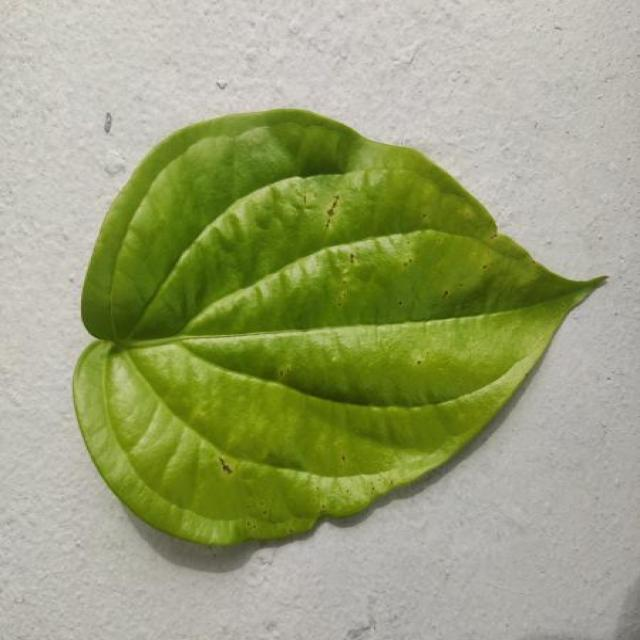betel: (73, 110, 605, 544)
defected betel: (253, 192, 472, 295)
